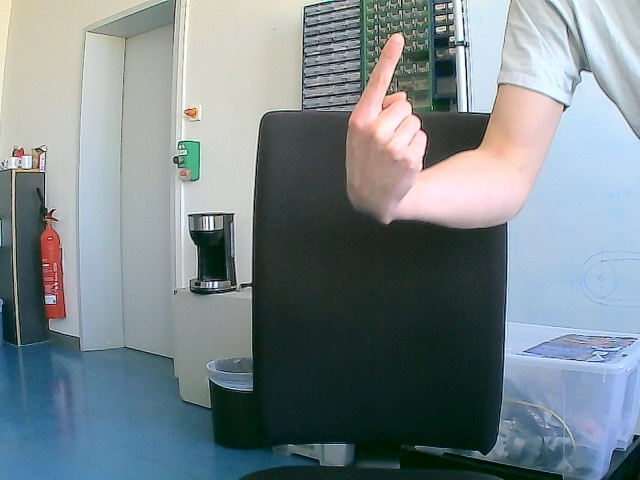up: (343, 32, 429, 226)
